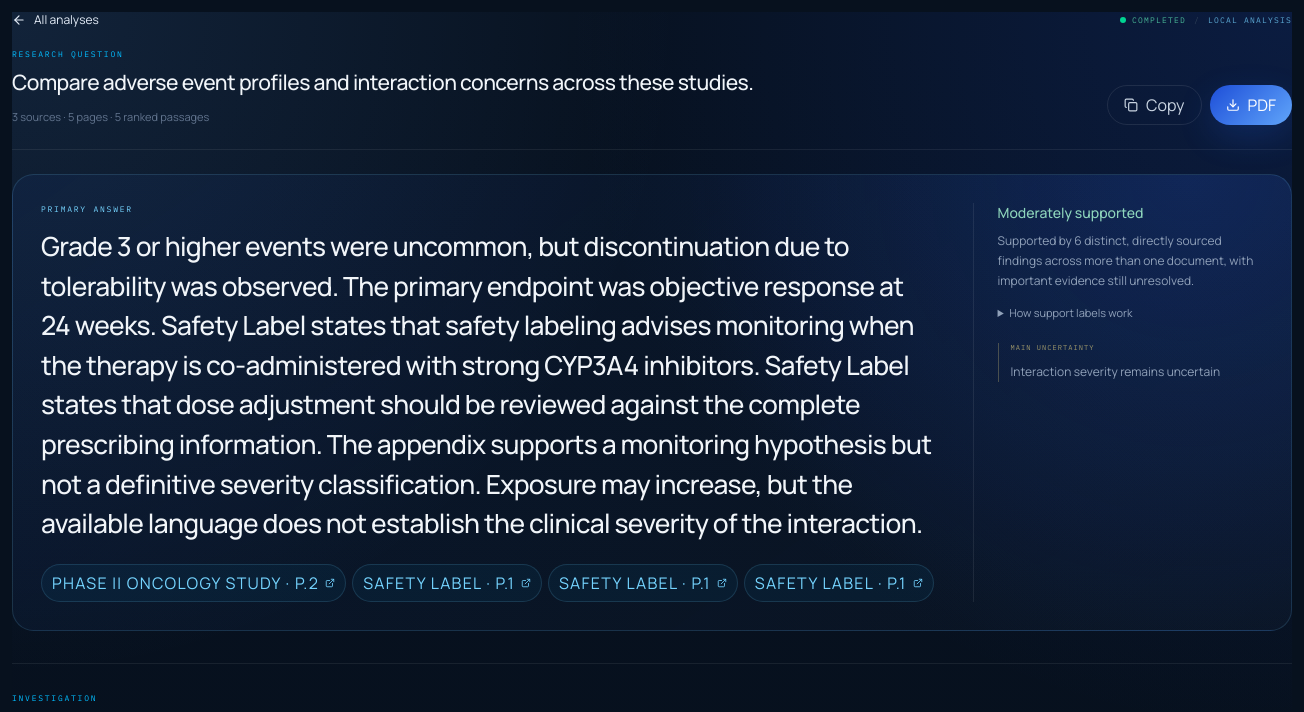
interactive report › shows a clean clipboard error when browser permission blocks copying
Step 1. Click the button "Copy" → [1154, 105], box x1=1107 y1=85 x2=1202 y2=125
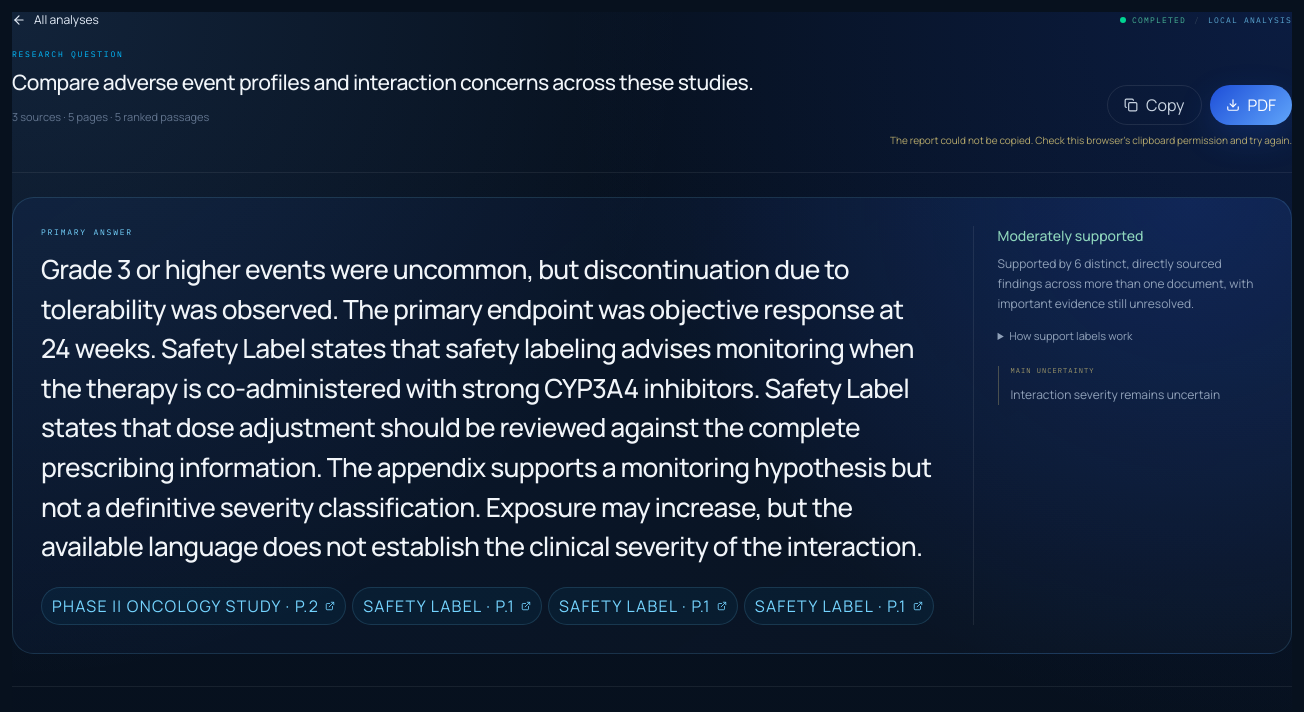
Expected: the message shows "clipboard permission", x1=890 y1=133 x2=1292 y2=147
